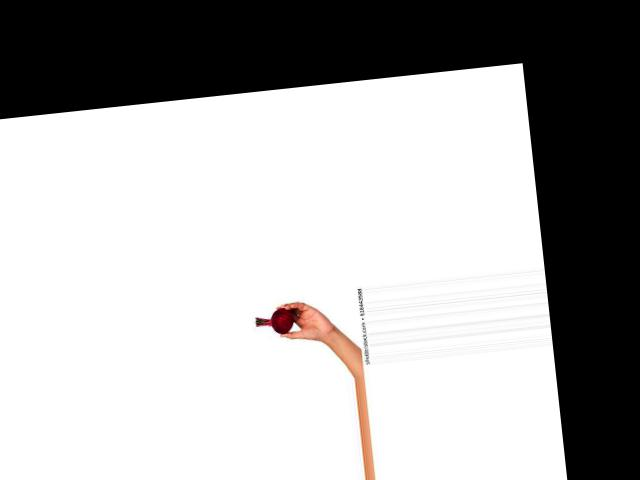beet: (254, 306, 293, 336)
